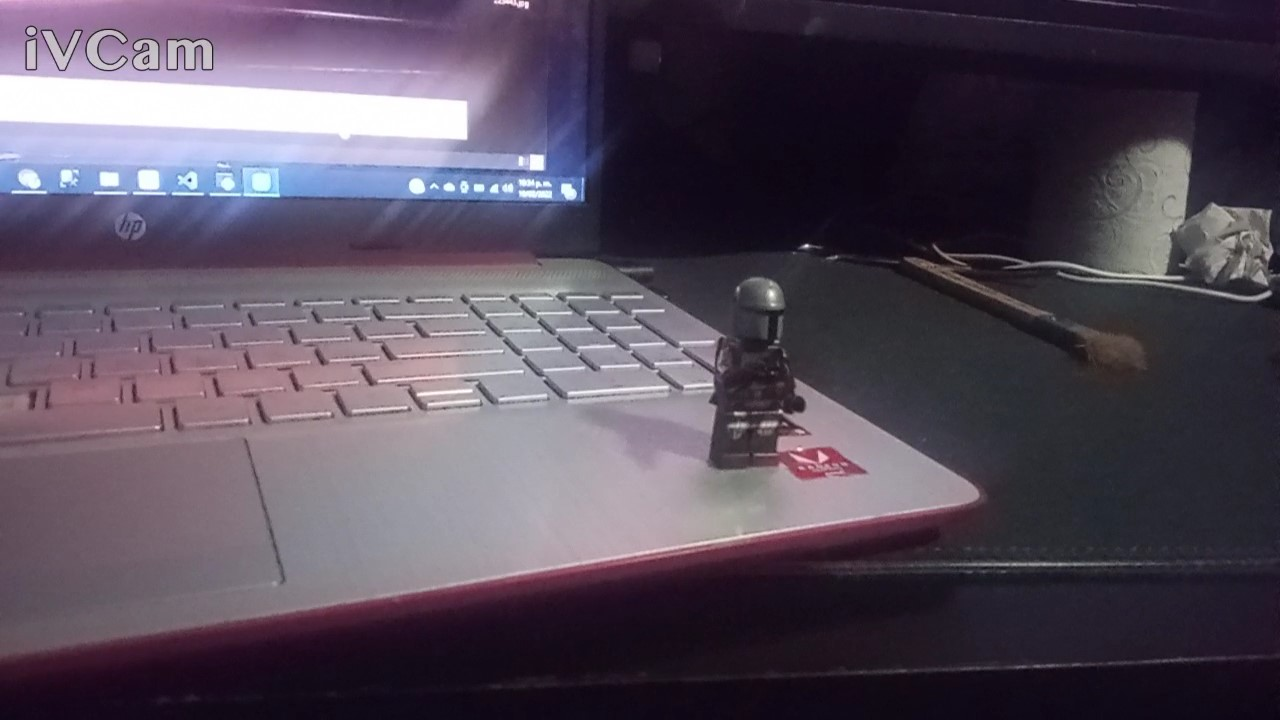mandalorian: (694, 268, 814, 471)
